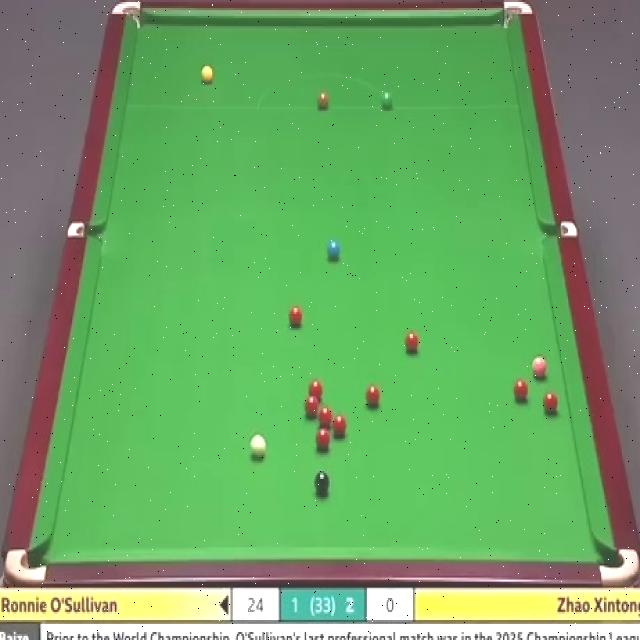black-ball: (313, 471, 330, 496)
blue-ball: (326, 238, 342, 260)
brown-ball: (316, 90, 329, 111)
green-ball: (380, 92, 394, 113)
pink-ball: (532, 354, 547, 380)
red-ball: (514, 378, 531, 402), (365, 383, 381, 408), (332, 415, 348, 439), (288, 306, 303, 328), (404, 332, 418, 354), (544, 392, 558, 414), (316, 429, 329, 452), (307, 380, 324, 396), (318, 409, 334, 426), (304, 395, 319, 411)
white-ball: (250, 434, 266, 458)
yellow-ball: (201, 66, 215, 86)
